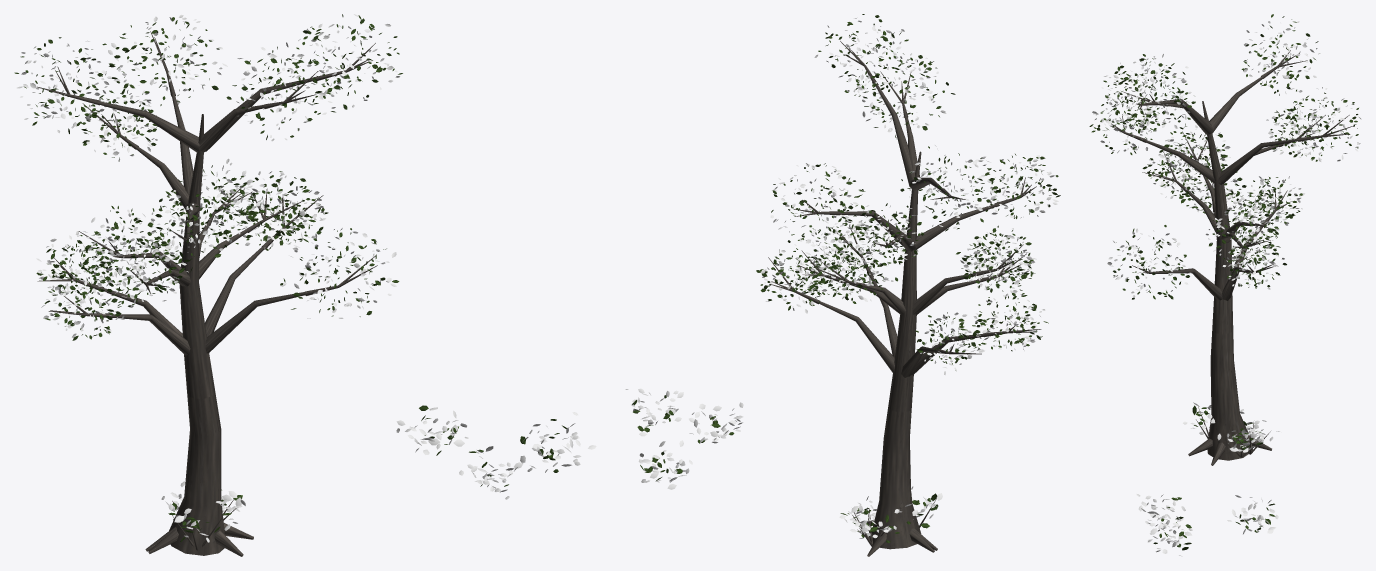
File: SM_Env_Tile_m1_m4.fbx
The picture shows the model from 3 angles, left to right: view 1: azimuth 30°, elevation 25°; view 2: azimuth 150°, elevation 25°; view 3: azimuth 270°, elevation 25°; orthographic projection. The views are drawn at different scales.
Visible parts, largest first — view 1: SM_Env_Tile_m1_m4; view 2: SM_Env_Tile_m1_m4; view 3: SM_Env_Tile_m1_m4.
Boxes of the visible parts, bbox=[...] form: SM_Env_Tile_m1_m4: bbox=[14, 14, 596, 556]; SM_Env_Tile_m1_m4: bbox=[625, 14, 1060, 556]; SM_Env_Tile_m1_m4: bbox=[1089, 14, 1361, 556].
Size of the model in its own units: 1522 by 910 by 1561.
5 materials, 2 textured.
